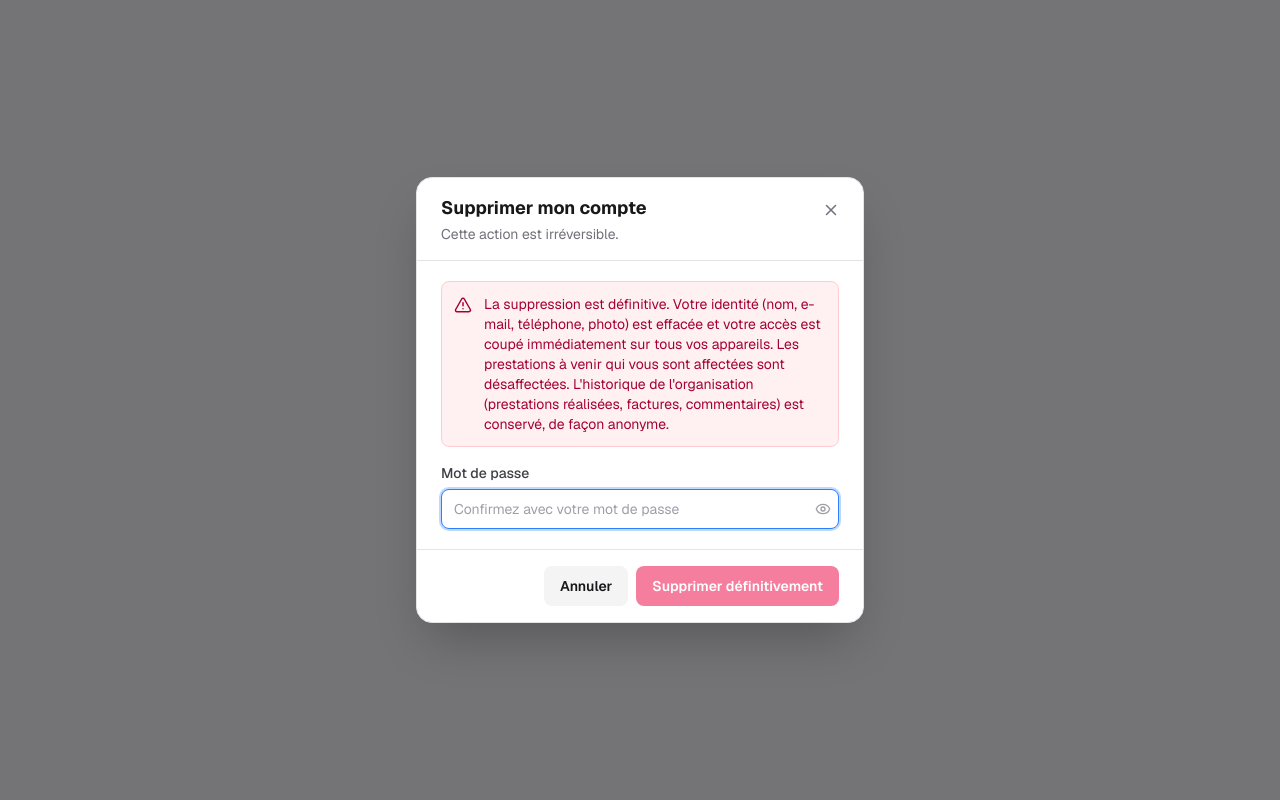
Test: DeleteAccountModal › 409 (dernier admin) → affiche le message de l'API
Type "secret" into the password field labelled "Mot de passe". click: coordinates (640, 509)
box: [441,489,839,529]
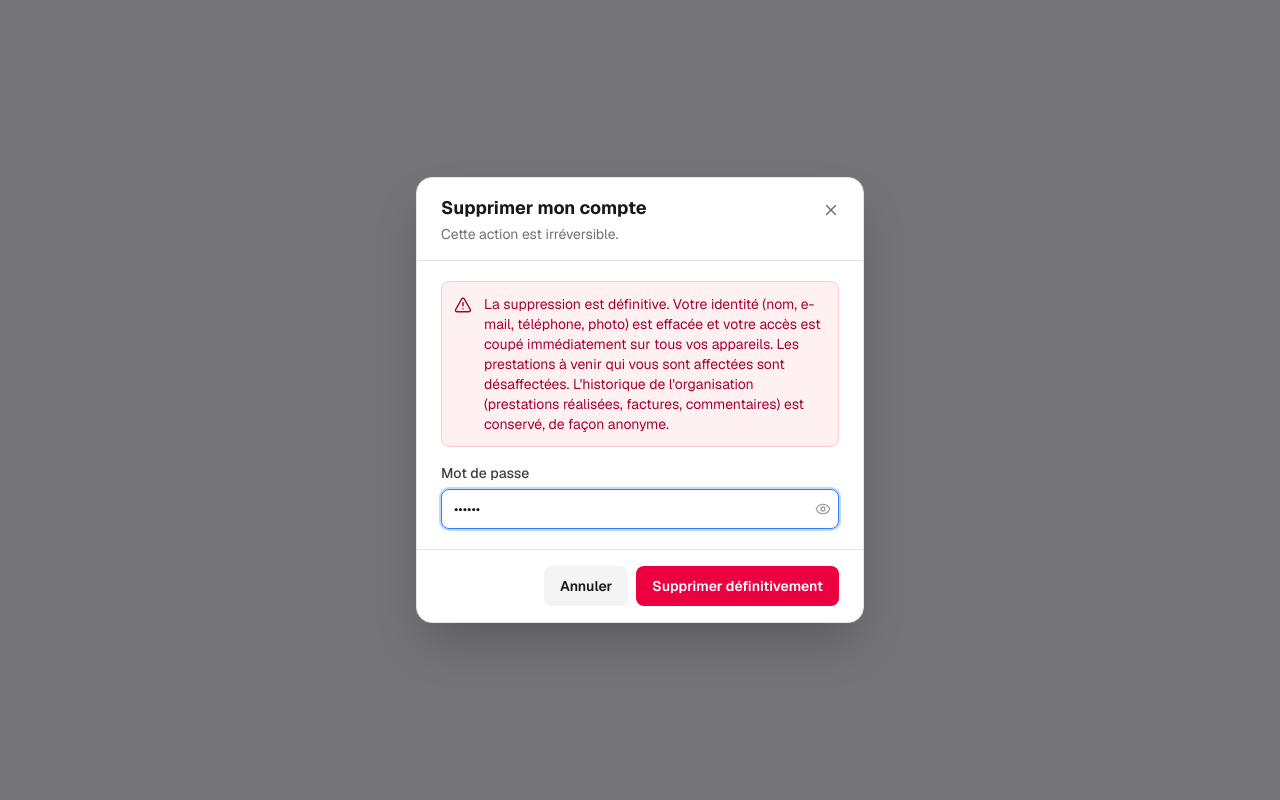
Click the button "Supprimer définitivement". click: coordinates (738, 586)
box: [636,566,839,606]
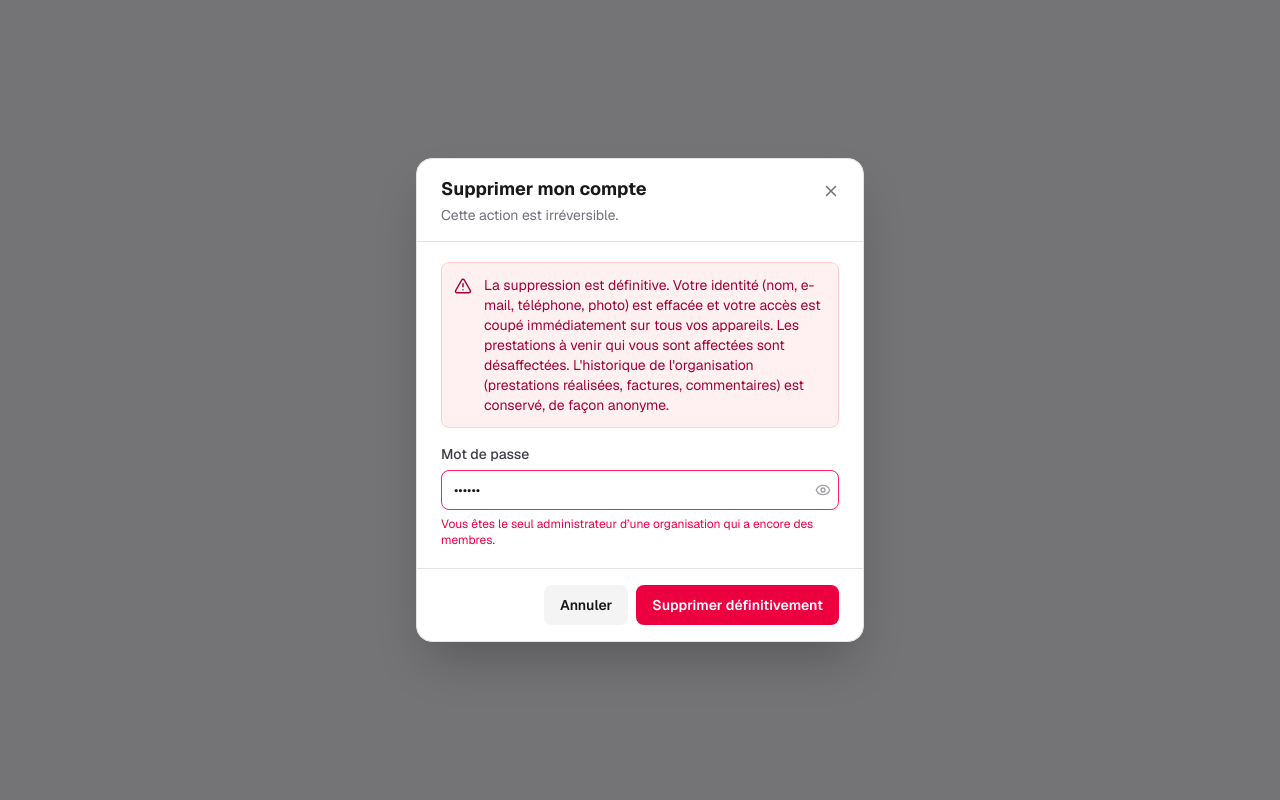
Result: the text "Vous êtes le seul administrateur d’une organisation qui a encore des membres." is shown at [441,516,839,548]
